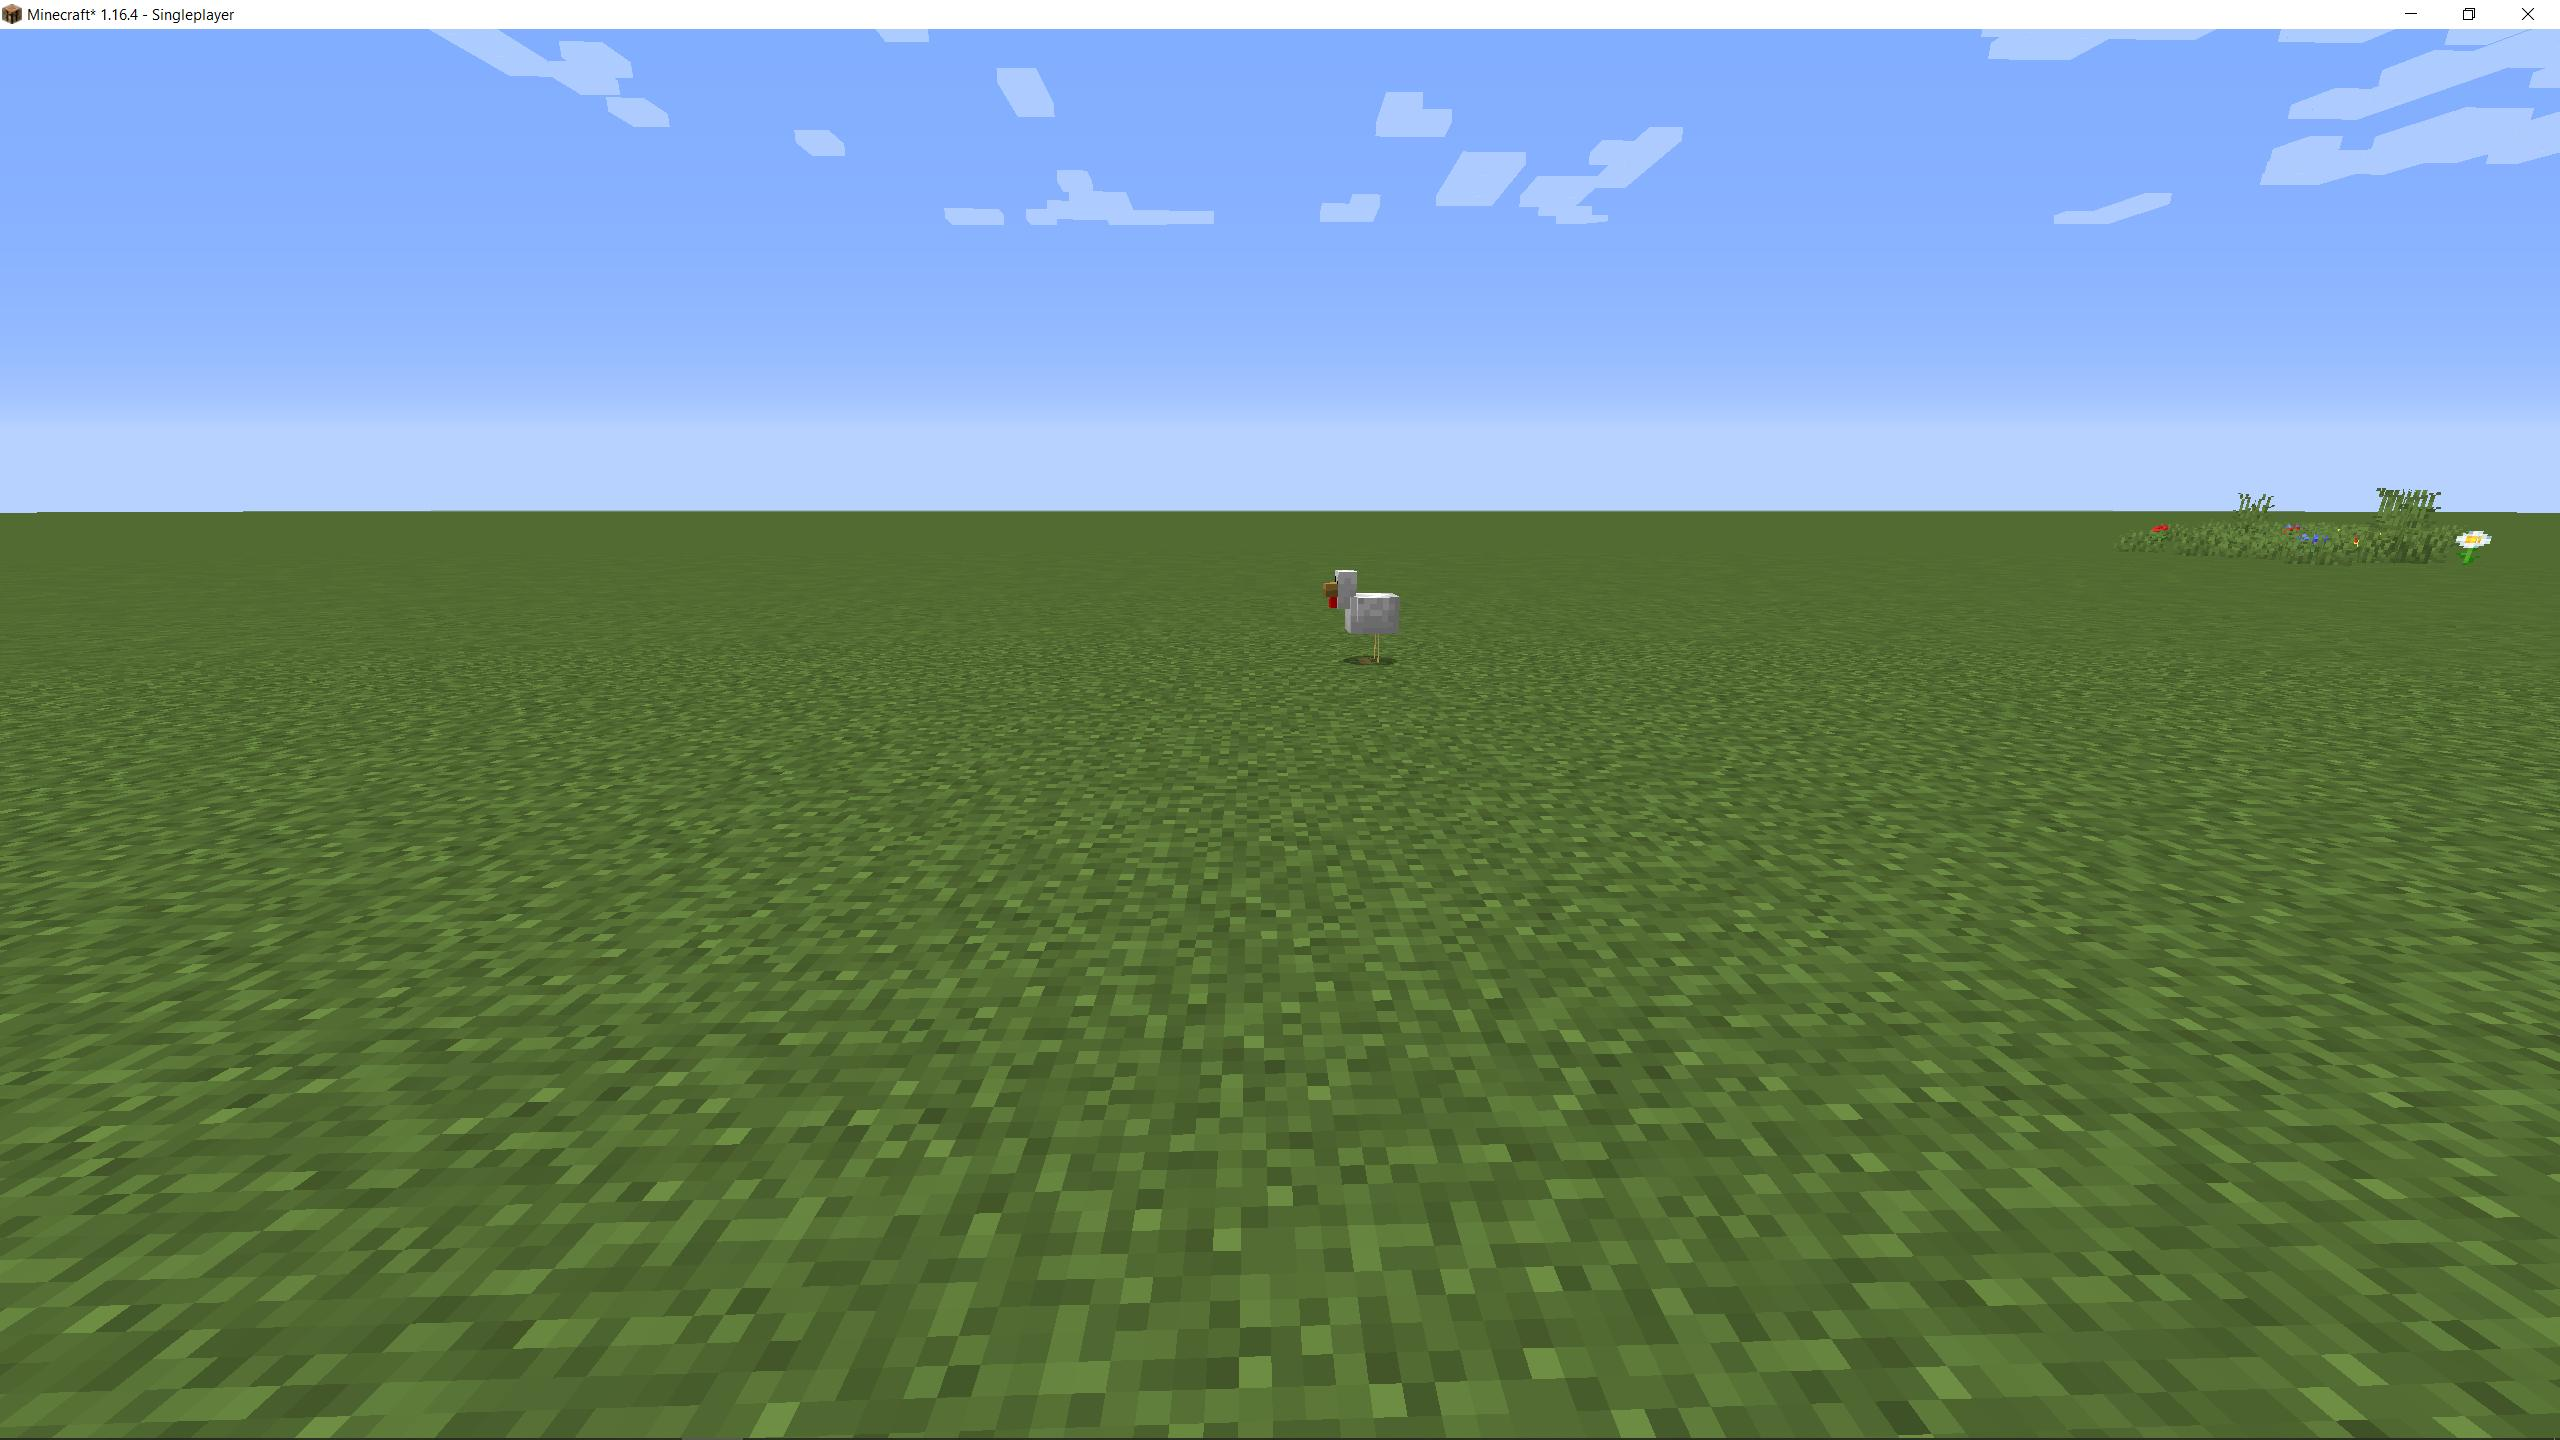chicken: (1319, 563, 1412, 679)
